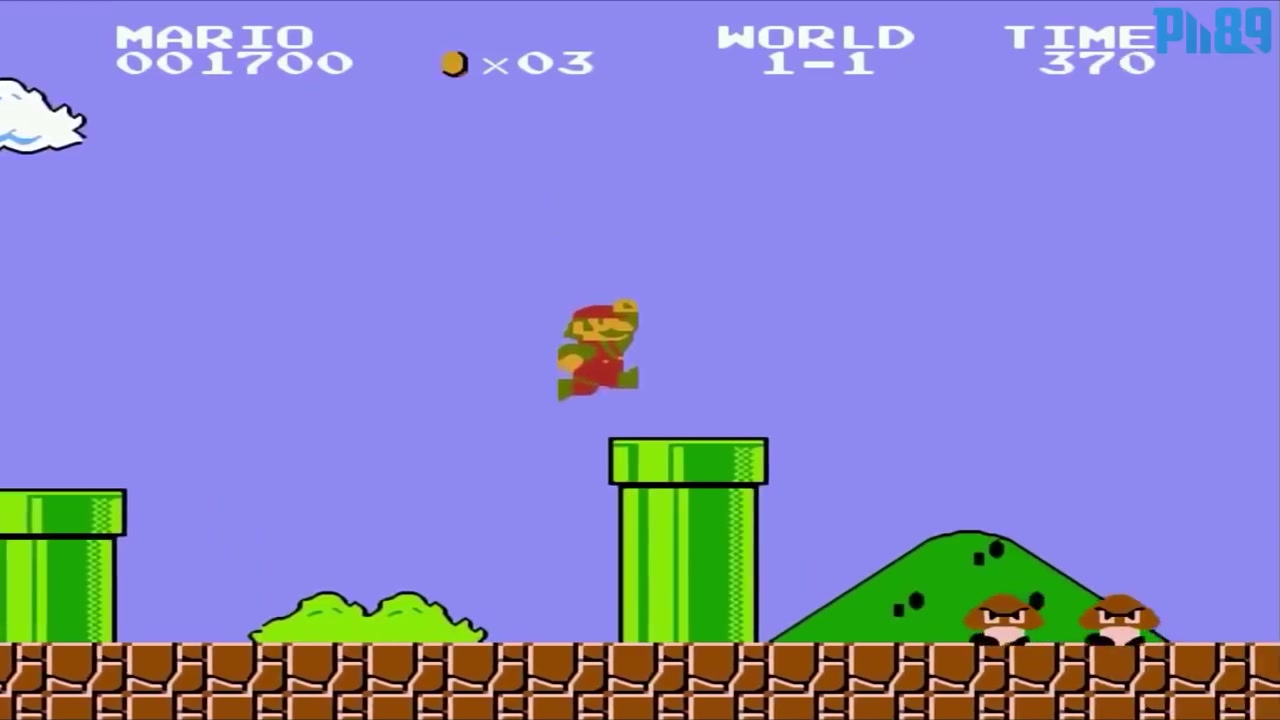mario: (549, 296, 648, 407)
